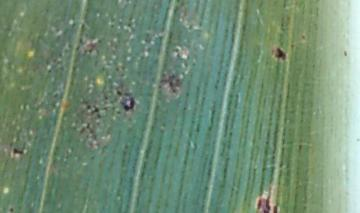tarspot: (120, 92, 137, 113), (258, 197, 279, 213), (273, 48, 288, 60), (86, 104, 101, 115), (11, 147, 25, 155), (116, 89, 123, 98), (9, 207, 16, 213)
